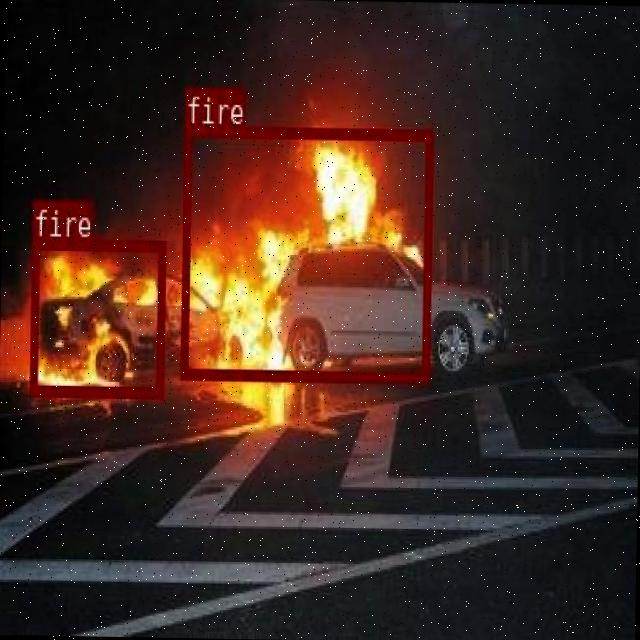fire: (179, 125, 431, 382), (29, 236, 164, 394)
